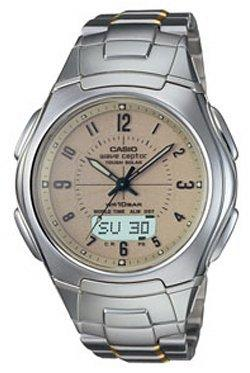watch: (17, 76, 237, 290)
